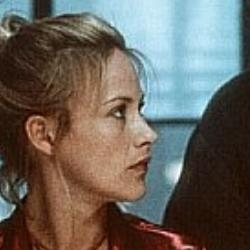face: (1, 6, 162, 221)
